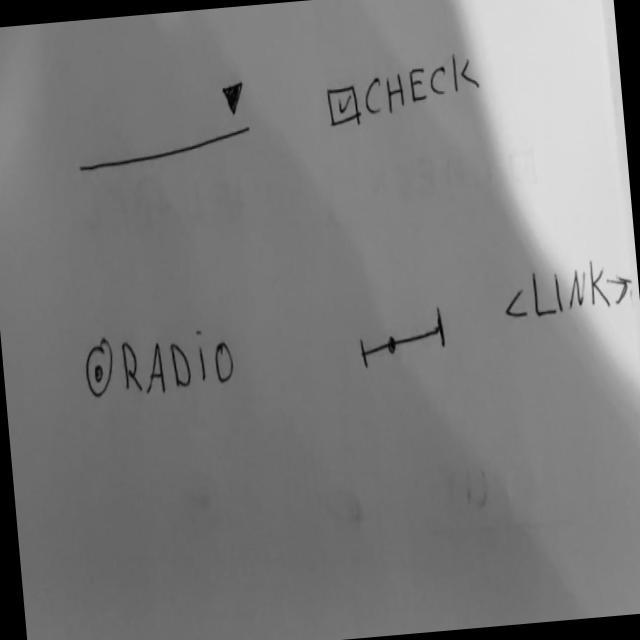checkbox: (322, 47, 486, 132)
link: (500, 256, 634, 324)
radio: (80, 321, 238, 403)
select: (69, 71, 255, 178)
slider: (356, 302, 451, 373)
